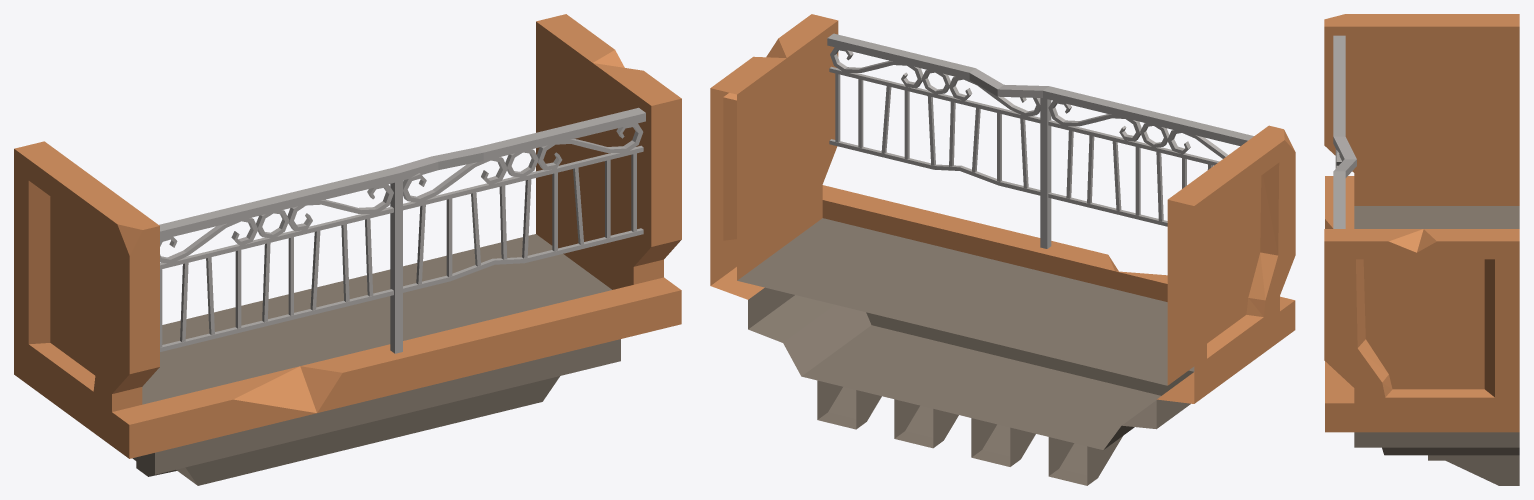
The model's file is SM_Bld_Cuba_Balcony_01.glb.
3 views of the same model, side by side, from view 1: azimuth 30°, elevation 25°; view 2: azimuth 150°, elevation 25°; view 3: azimuth 270°, elevation 25° (orthographic). The views are drawn at different scales.
Visible parts, largest first — view 1: SM_Bld_Cuba_Balcony_01_part00; view 2: SM_Bld_Cuba_Balcony_01_part00; view 3: SM_Bld_Cuba_Balcony_01_part00.
Part boxes in pixels (<box>): SM_Bld_Cuba_Balcony_01_part00: <box>14,14,681,485</box>; SM_Bld_Cuba_Balcony_01_part00: <box>710,14,1295,485</box>; SM_Bld_Cuba_Balcony_01_part00: <box>1324,14,1519,485</box>.
Bounding box in the file's own units: 2.36 × 1.42 × 0.8539.
Materials: 1 (1 with a texture image).
